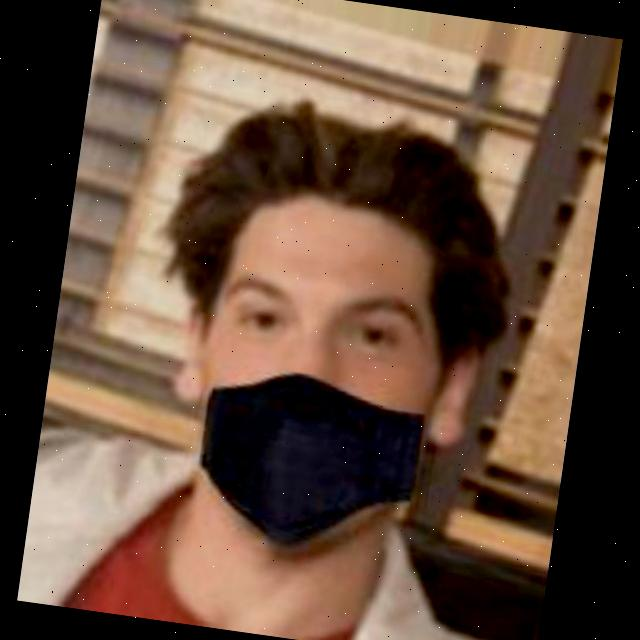suspicion: (165, 108, 498, 582)
